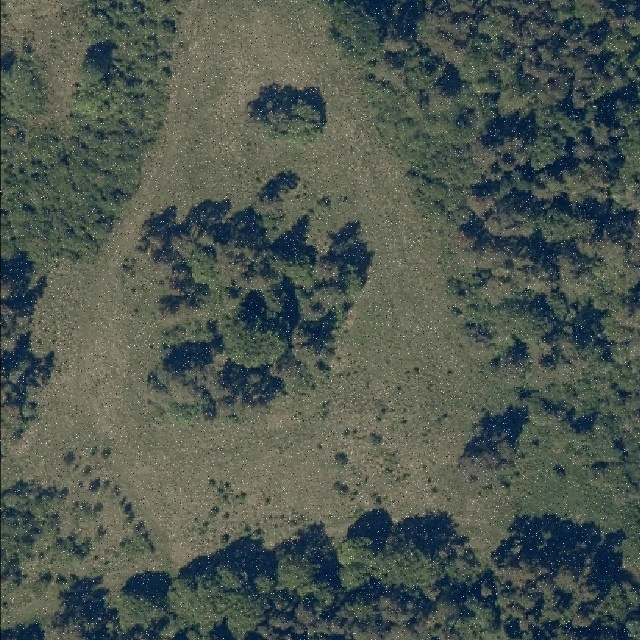vegetation: (326, 0, 640, 529), (0, 490, 640, 640), (0, 0, 178, 438), (140, 171, 364, 422), (249, 88, 327, 142)
